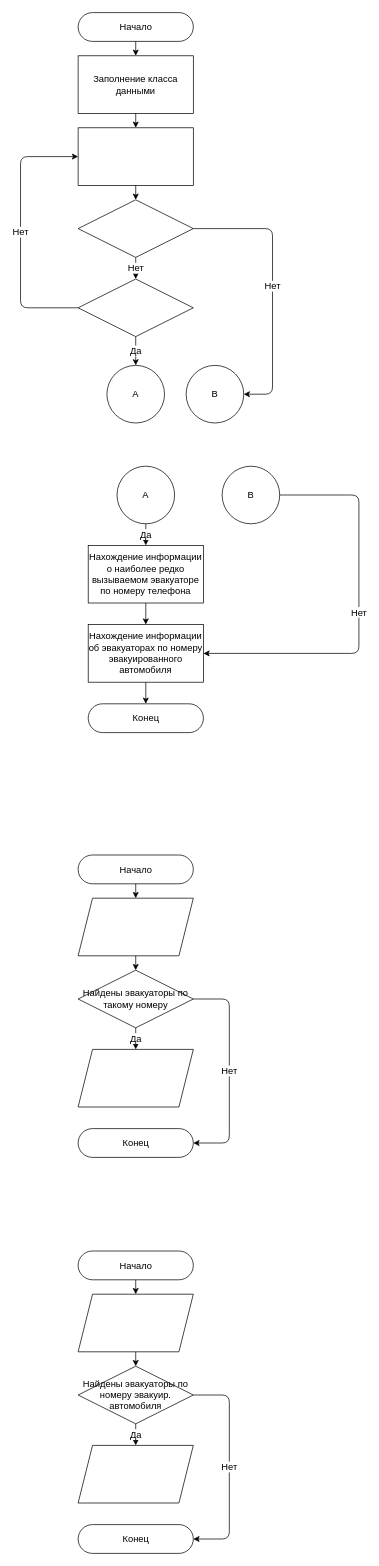
The diagram is 379 pixels wide and 1566 high, and some of its shapes have lost their labels. The shapes that lost their labels are listed below. From the top down, each one's centre as x and y in pixels, then its label:
At (135,156): "Выбор дальнейшего действия".
At (135,228): "Это 1".
At (135,307): "Это 2".
At (135,926): "Ввод номера телефона".
At (135,1078): "Вывод информации о наиболее редко вызываемом".
At (135,1322): "Ввод номера автомобиля".
At (135,1474): "Вывод информации об эвакуаторах".
